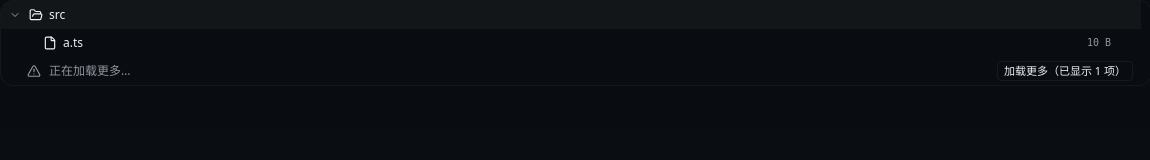
Test: FileTreeList 渲染与 a11y › 展开层有下一页时点击「加载更多」回调指向该层，且不在 loading 时重复挂载按钮
Click the button "加载更多（已显示 1 项）" at [1065, 71], box [997,61,1133,81]
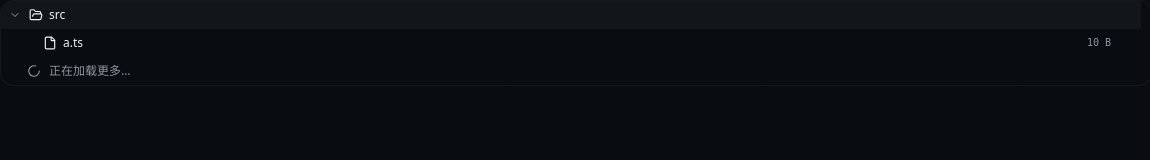
Check: the button "加载更多（已显示 1 项）" is gone
